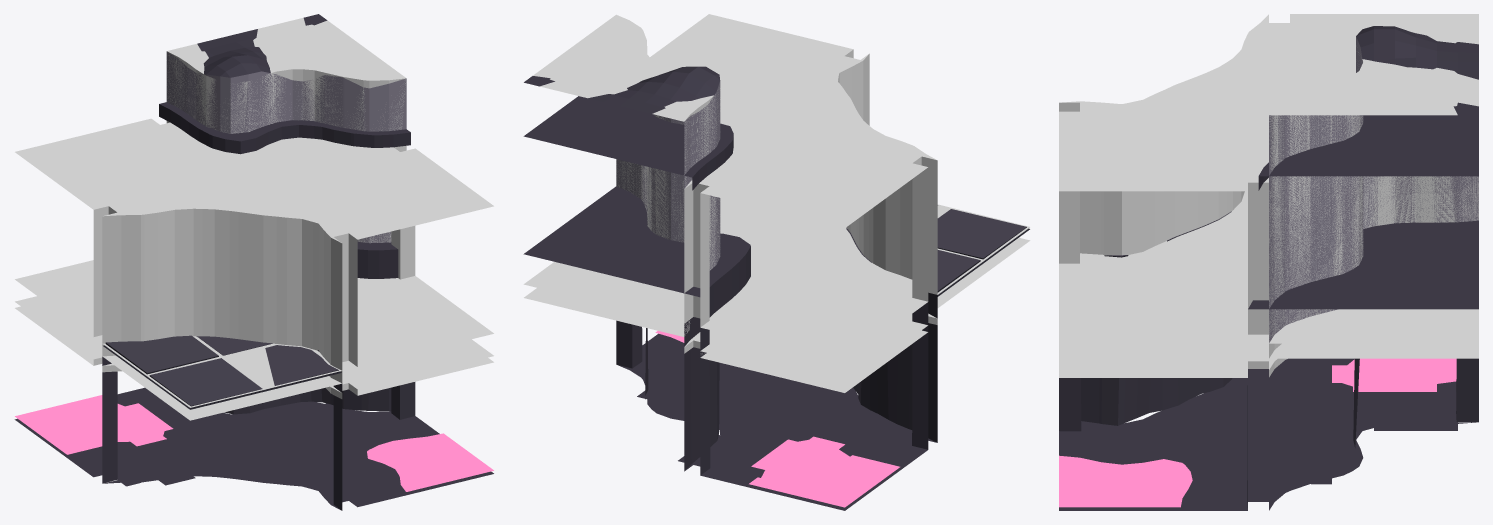
File: Tile_LWLF.fbx
3 renders of one model, left to right at view 1: azimuth 30°, elevation 25°; view 2: azimuth 150°, elevation 25°; view 3: azimuth 270°, elevation 25°, orthographic. The views are drawn at different scales.
Visible parts, largest first — view 1: Tile_LWLF_ColCrackBlocker, Tile_LWLF, Tile_LWLF_ColWall, Tile_LWLF_ColCrackSurface, Tile_LWLF_ColGround; view 2: Tile_LWLF, Tile_LWLF_ColCrackBlocker, Tile_LWLF_ColWall, Tile_LWLF_ColGround, Tile_LWLF_ColCrackSurface; view 3: Tile_LWLF, Tile_LWLF_ColCrackBlocker, Tile_LWLF_ColWall, Tile_LWLF_ColGround, Tile_LWLF_ColCrackSurface.
Part boxes in pixels (<box>): Tile_LWLF_ColCrackBlocker: <box>15,118,493,370</box>; Tile_LWLF: <box>14,14,493,510</box>; Tile_LWLF_ColWall: <box>166,17,406,242</box>; Tile_LWLF_ColCrackSurface: <box>15,296,493,398</box>; Tile_LWLF_ColGround: <box>102,336,342,420</box>; Tile_LWLF: <box>523,66,1029,510</box>; Tile_LWLF_ColCrackBlocker: <box>616,14,937,362</box>; Tile_LWLF_ColWall: <box>525,14,720,321</box>; Tile_LWLF_ColGround: <box>523,204,1030,336</box>; Tile_LWLF_ColCrackSurface: <box>684,313,937,392</box>; Tile_LWLF: <box>1059,26,1478,510</box>; Tile_LWLF_ColCrackBlocker: <box>1059,14,1478,343</box>; Tile_LWLF_ColWall: <box>1269,26,1478,343</box>; Tile_LWLF_ColGround: <box>1269,309,1478,358</box>; Tile_LWLF_ColCrackSurface: <box>1059,334,1287,377</box>.
Size of the model in its own units: 5 by 5.4 by 5.
